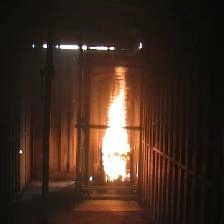fire: (103, 73, 137, 184)
